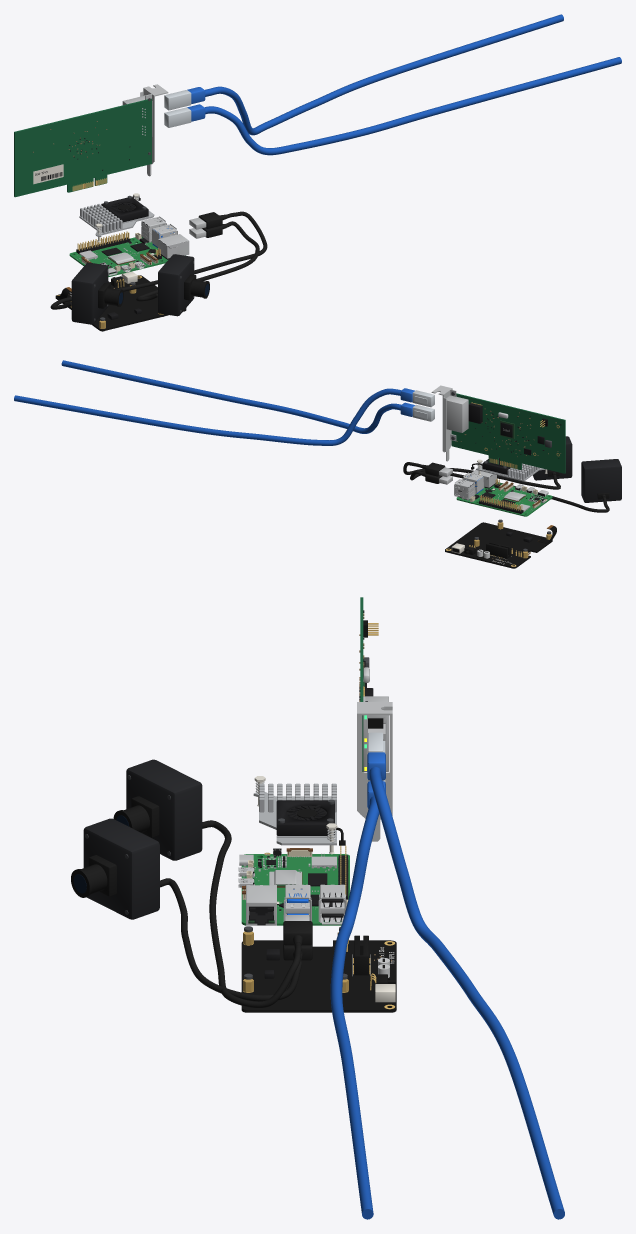
The model's file is assembly-exploded.glb.
3 renders of one model, top to bottom at view 1: azimuth 30°, elevation 25°; view 2: azimuth 150°, elevation 25°; view 3: azimuth 270°, elevation 25°, orthographic. The views are drawn at different scales.
Visible parts, largest first — view 1: i350_t2, cable_R, pi5, cable_L, camera_1, camera_2, pcie_adapter, active_cooler; view 2: i350_t2, cable_L, pcie_adapter, cable_R, pi5, camera_1, camera_2, active_cooler; view 3: camera_1, pcie_adapter, camera_2, pi5, cable_L, cable_R, active_cooler, i350_t2.
Boxes of the visible parts, <box> form: i350_t2: <box>14,84,168,197</box>; cable_R: <box>164,57,621,155</box>; pi5: <box>69,216,189,276</box>; cable_L: <box>164,14,563,135</box>; camera_1: <box>50,211,267,324</box>; camera_2: <box>136,221,259,316</box>; pcie_adapter: <box>55,271,186,331</box>; active_cooler: <box>79,193,154,242</box>; i350_t2: <box>431,385,565,473</box>; cable_L: <box>14,388,434,445</box>; pcie_adapter: <box>445,519,552,568</box>; cable_R: <box>61,360,434,433</box>; pi5: <box>454,469,552,516</box>; camera_1: <box>403,459,621,512</box>; camera_2: <box>410,436,572,489</box>; active_cooler: <box>471,458,547,481</box>; camera_1: <box>113,759,312,1008</box>; pcie_adapter: <box>241,926,396,1012</box>; camera_2: <box>71,818,312,1001</box>; pi5: <box>238,845,349,925</box>; cable_L: <box>367,732,564,1219</box>; cable_R: <box>330,780,385,1219</box>; active_cooler: <box>253,776,345,854</box>; i350_t2: <box>357,597,392,841</box>.
Bounding box in the file's own units: 0.606 × 0.1799 × 0.2554.
